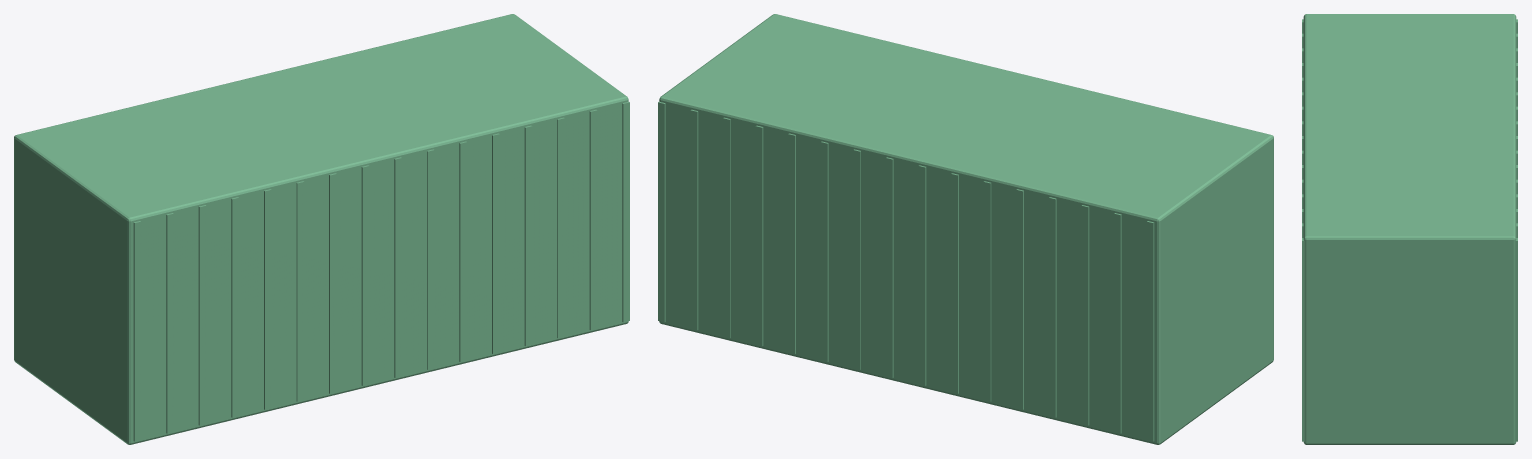
The model's file is container_2.glb.
3 views of the same model, side by side, from view 1: azimuth 30°, elevation 25°; view 2: azimuth 150°, elevation 25°; view 3: azimuth 270°, elevation 25° (orthographic). The views are drawn at different scales.
Parts seen in each view (by area): view 1: container_2; view 2: container_2; view 3: container_2.
Boxes of the visible parts, left/top/right/bottom form: container_2: left=14, top=14, right=629, bottom=444; container_2: left=658, top=14, right=1273, bottom=444; container_2: left=1302, top=14, right=1517, bottom=444.
Size of the model in its own units: 6 by 2.6 by 2.44.
